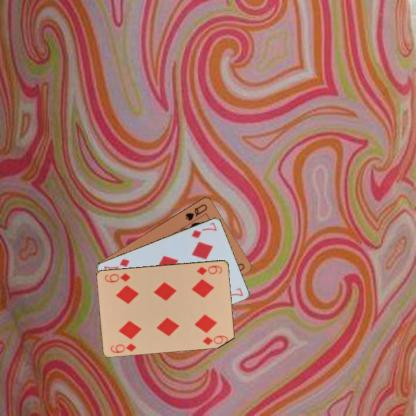6d: (108, 340, 138, 354), (194, 263, 224, 276)
7d: (189, 220, 218, 239)
Qs: (182, 201, 209, 222)
